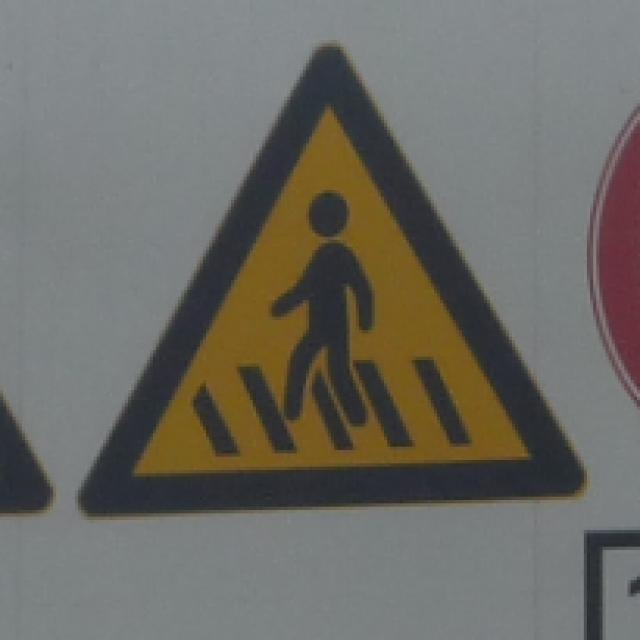Crossing: (82, 31, 607, 524)
